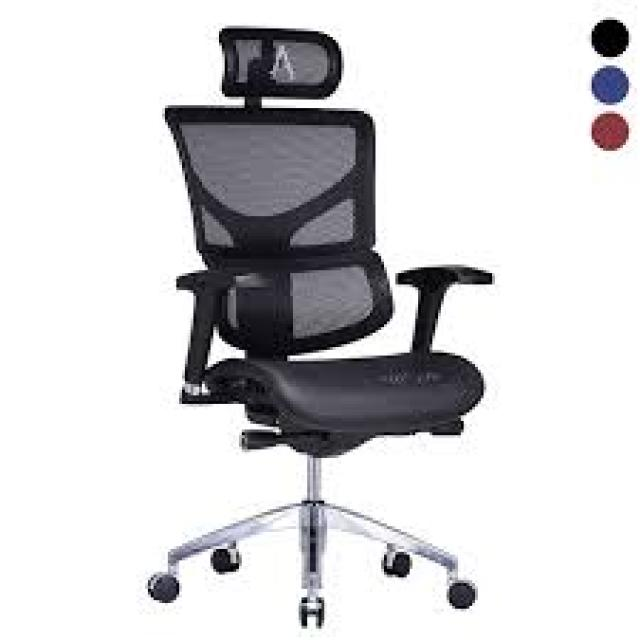chair: (102, 17, 532, 640)
